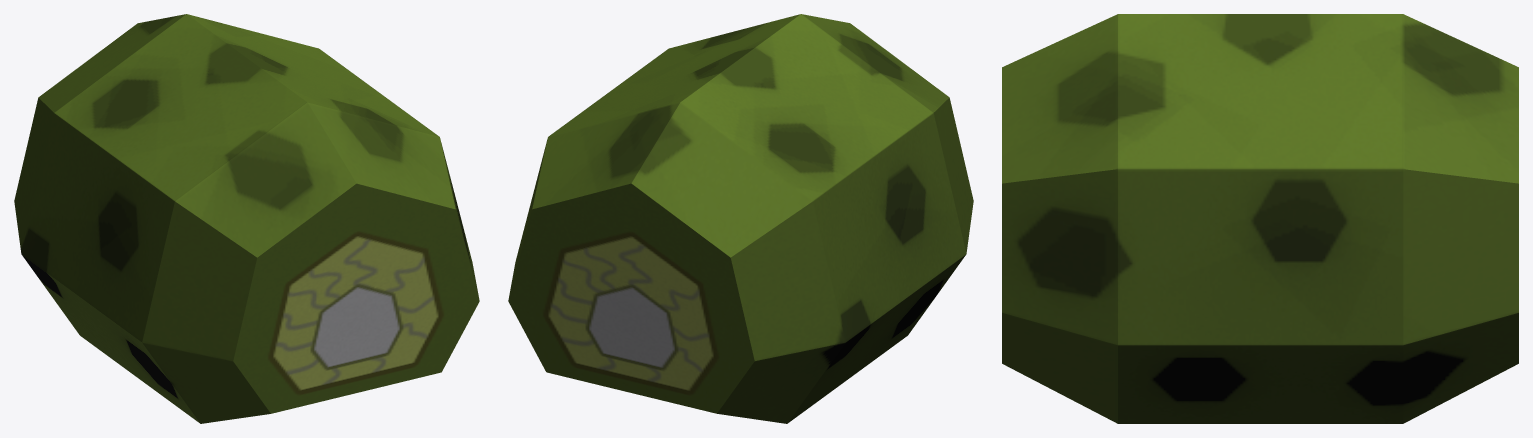
The model's file is SerpentBasic_Corps.FBX.
3 views of the same model, side by side, from view 1: azimuth 30°, elevation 25°; view 2: azimuth 150°, elevation 25°; view 3: azimuth 270°, elevation 25° (orthographic). The views are drawn at different scales.
Visible parts, largest first — view 1: SerpentBasic_Corps; view 2: SerpentBasic_Corps; view 3: SerpentBasic_Corps.
Part boxes in pixels (x1,y1,x2,y2): SerpentBasic_Corps: [14, 14, 479, 423]; SerpentBasic_Corps: [508, 14, 973, 423]; SerpentBasic_Corps: [1002, 14, 1518, 423].
Size of the model in its own units: 0.8711 by 0.7447 by 1.
